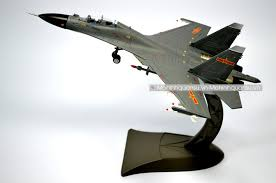maybay_muctieu: (26, 11, 255, 114)
